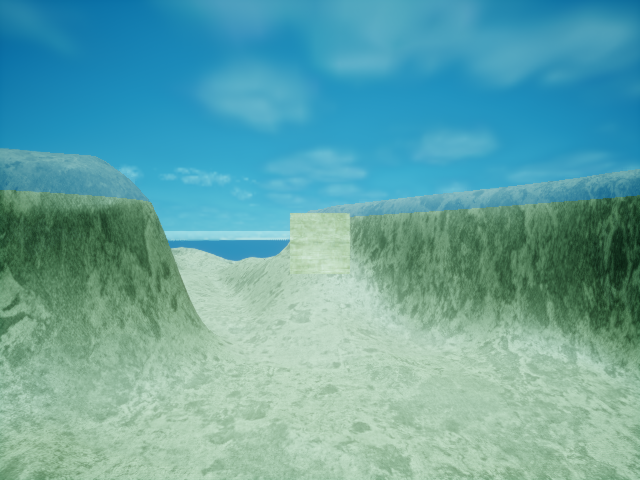Cube: (285, 202, 353, 278)
